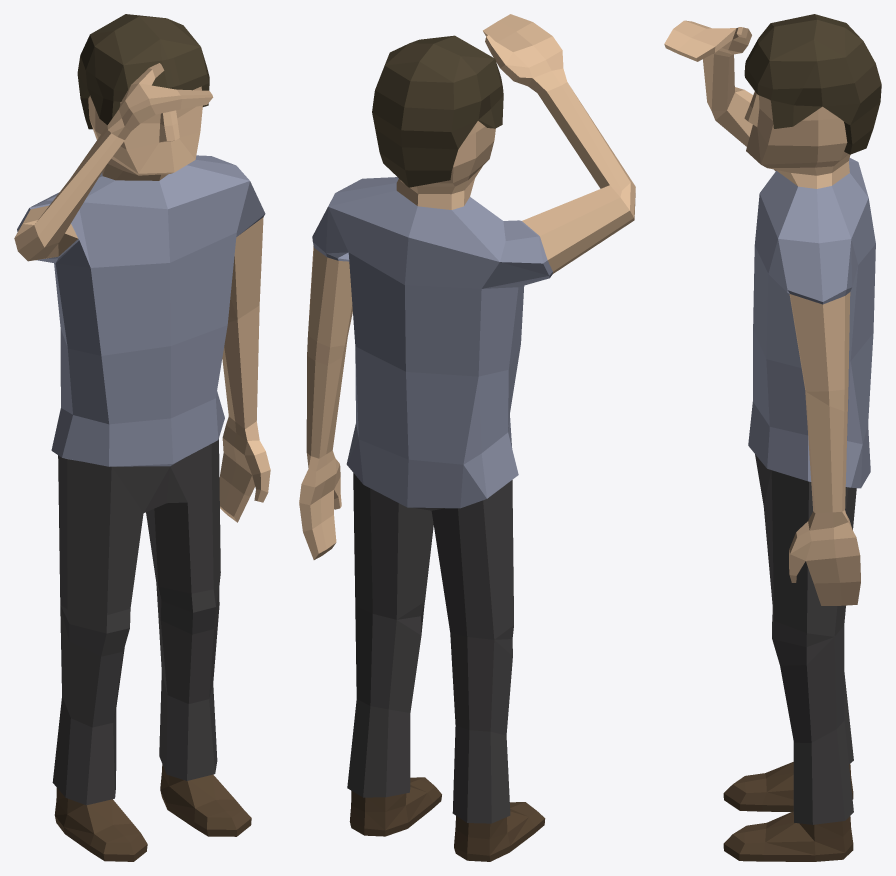
File: Male_Standing_CoveringEyes.glb
3 renders of one model, left to right at view 1: azimuth 30°, elevation 25°; view 2: azimuth 150°, elevation 25°; view 3: azimuth 270°, elevation 25°, orthographic.
Visible parts, largest first — view 1: Male_Standing_CoveringEyes; view 2: Male_Standing_CoveringEyes; view 3: Male_Standing_CoveringEyes.
Part boxes in pixels (box(x1,y1,x2,y2)): Male_Standing_CoveringEyes: box(14, 14, 270, 861); Male_Standing_CoveringEyes: box(299, 14, 635, 861); Male_Standing_CoveringEyes: box(664, 14, 881, 861).
Bounding box in the file's own units: 0.6681 × 1.81 × 0.4427.
